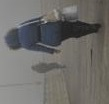person: (5, 6, 103, 54), (28, 61, 68, 75)
